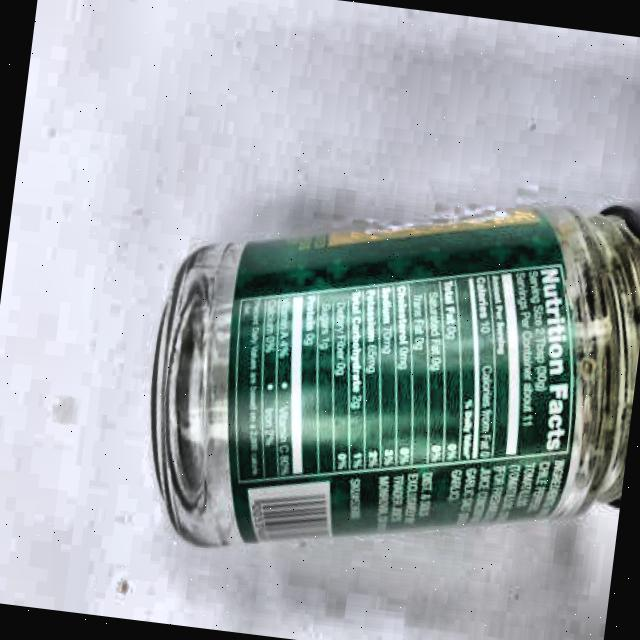glass: (128, 146, 640, 598)
